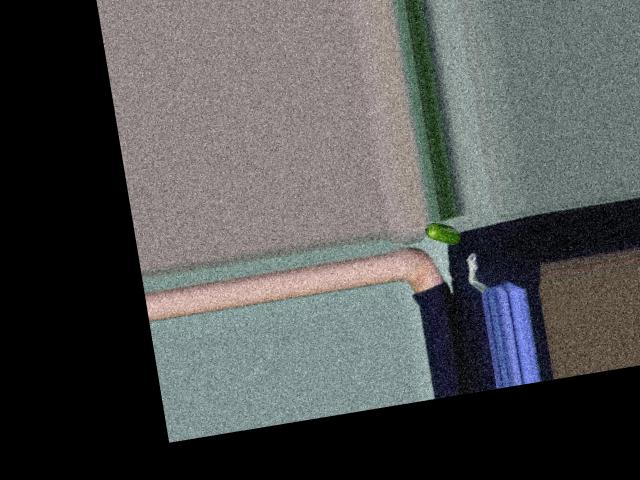cucumber: (423, 218, 461, 248)
